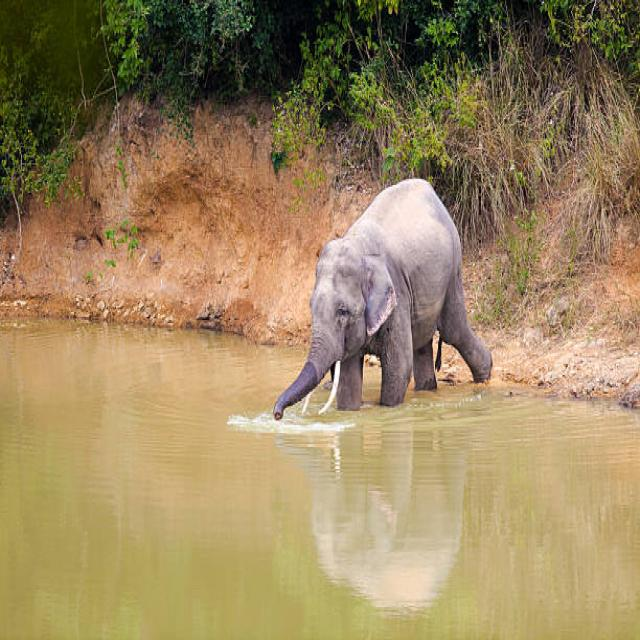Elephant: (265, 171, 498, 423)
